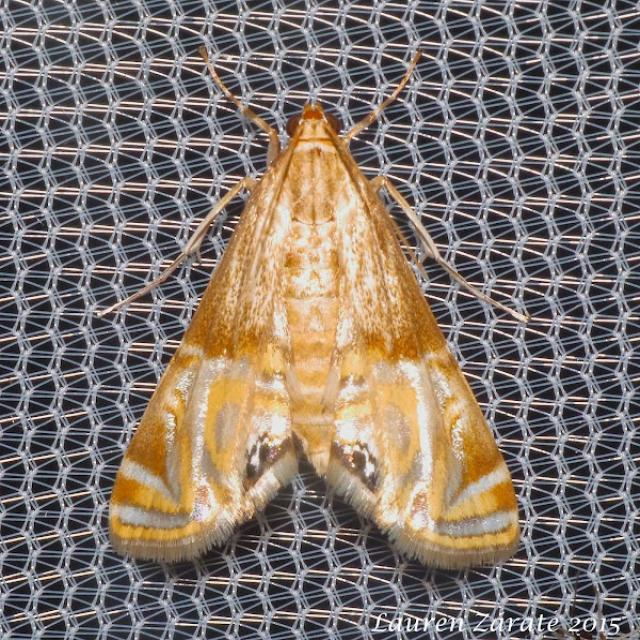cornborer-Adult-: (60, 27, 558, 578)
